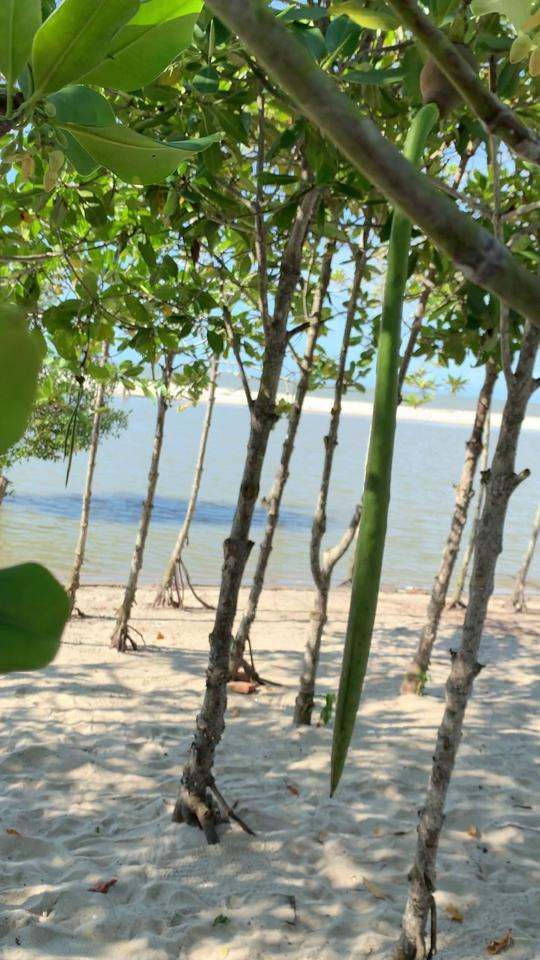setengah matang: (319, 18, 491, 810)
